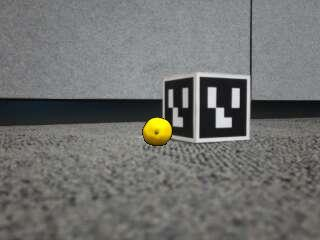lemon: (144, 118, 173, 145)
